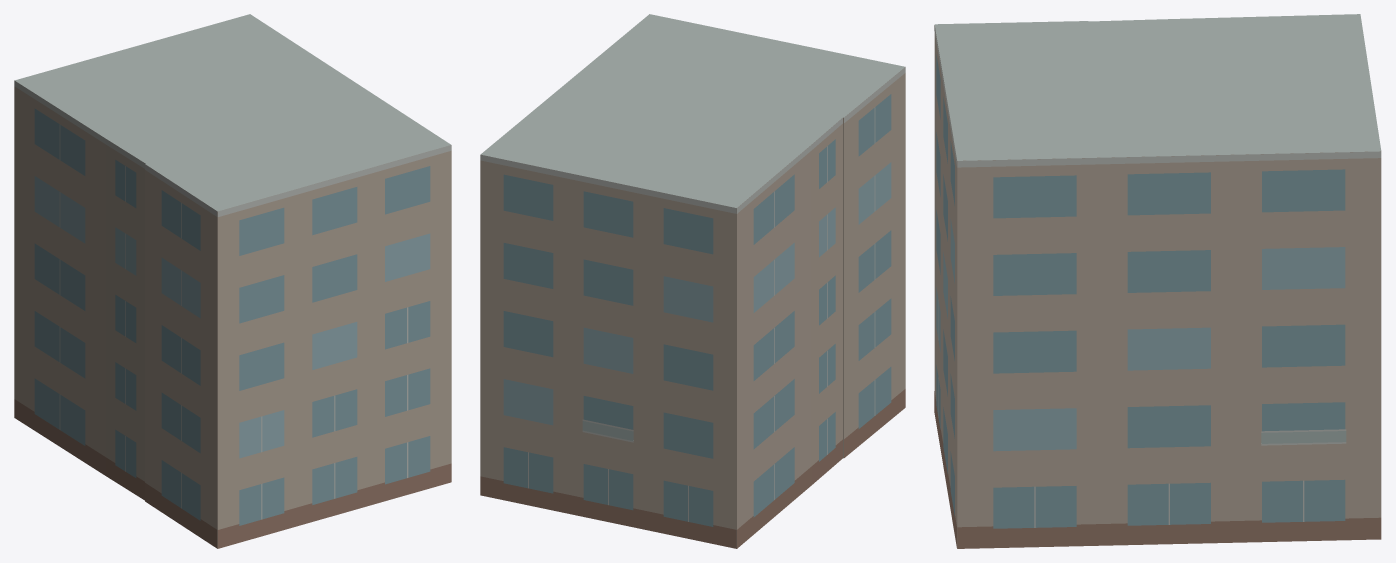
File: survey-upis-32742960.glb
The picture shows the model from 3 angles, left to right: view 1: azimuth 30°, elevation 25°; view 2: azimuth 150°, elevation 25°; view 3: azimuth 270°, elevation 25°; orthographic projection. The views are drawn at different scales.
Parts seen in each view (by area): view 1: survey-upis-32742960.tmp; view 2: survey-upis-32742960.tmp; view 3: survey-upis-32742960.tmp.
Part boxes in pixels (box(x1,y1,x2,y2)): survey-upis-32742960.tmp: box(14, 14, 451, 548); survey-upis-32742960.tmp: box(480, 14, 905, 548); survey-upis-32742960.tmp: box(934, 14, 1381, 548).
Size of the model in its own units: 11.54 by 14.2 by 14.83.
